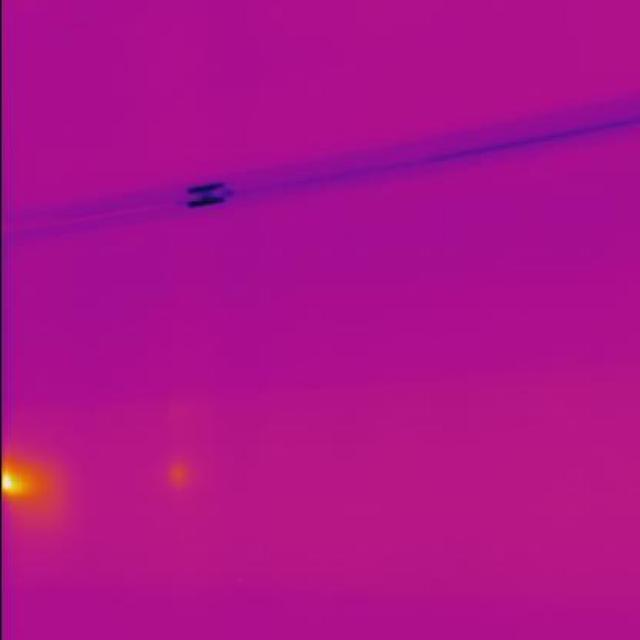hotspot: (1, 455, 42, 514)
